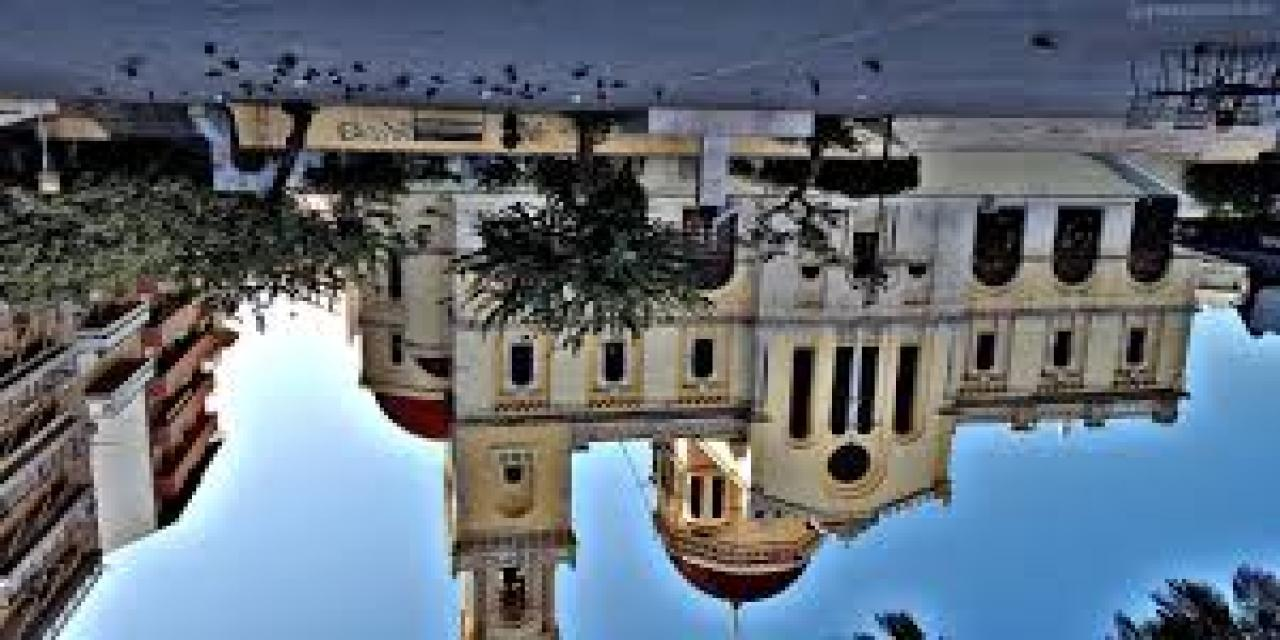Agios Minas: (347, 158, 1210, 637)
